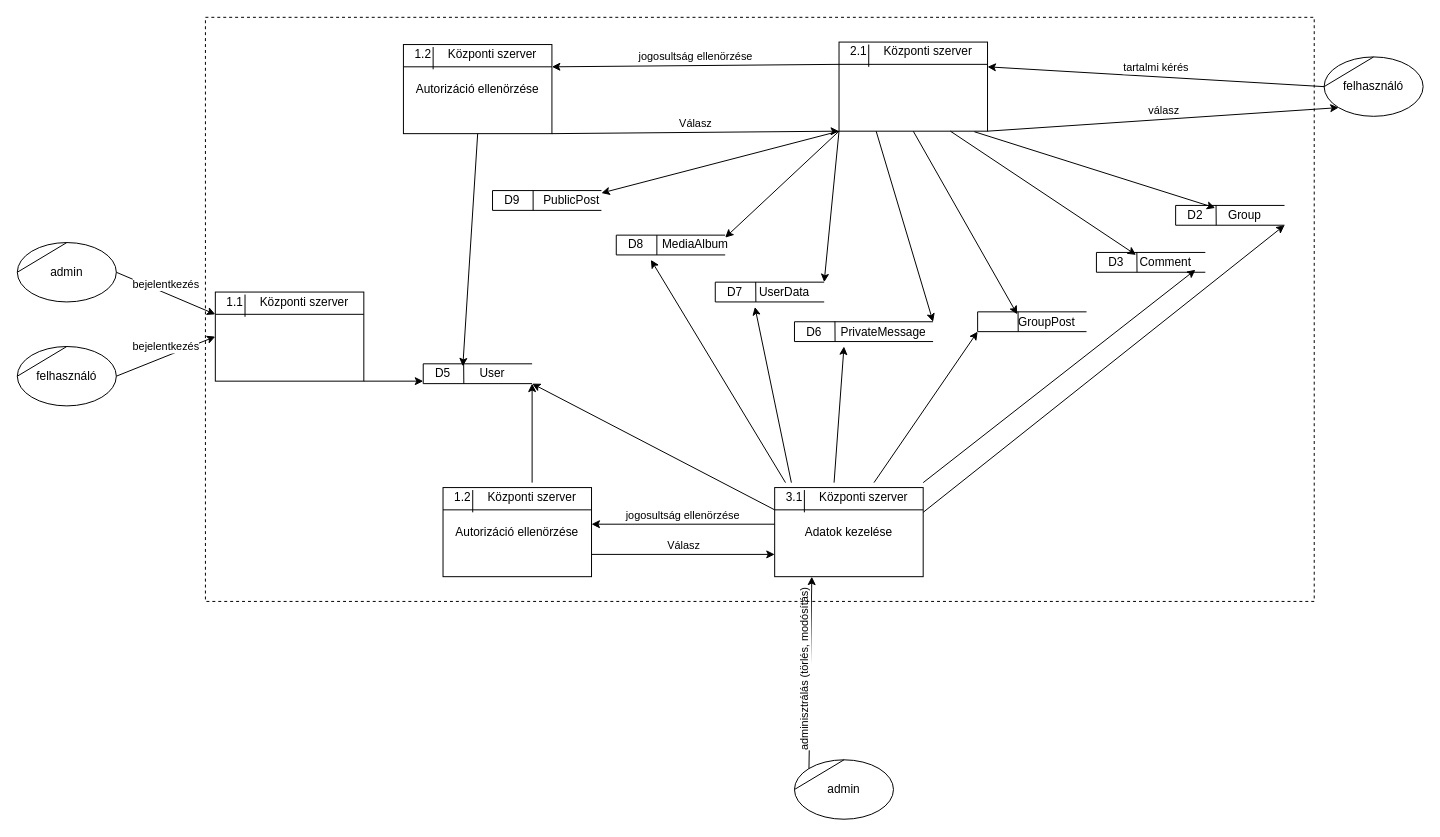
Image size: 1440x837. Some labels were removed from this diagram. The shapes that lost their labels are listed below. From the top down, each one's box as (x1, y1, x2, y2) in pixels, then its label:
(838, 41, 988, 131): Kérés kezelés
(214, 291, 364, 381): Autentikáció
(977, 311, 1087, 332): D4
